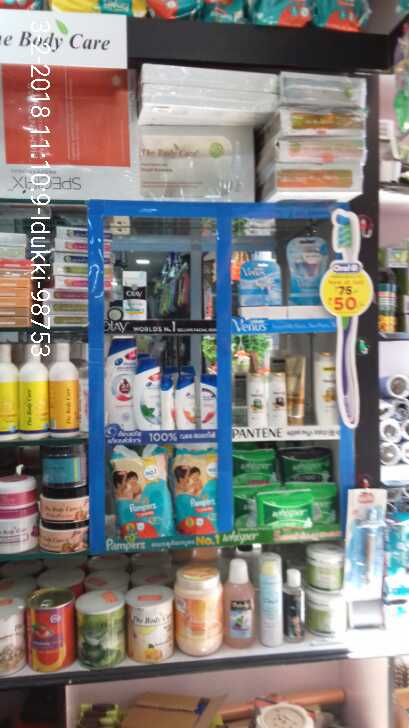venus: (288, 236, 324, 308), (237, 259, 279, 305)
